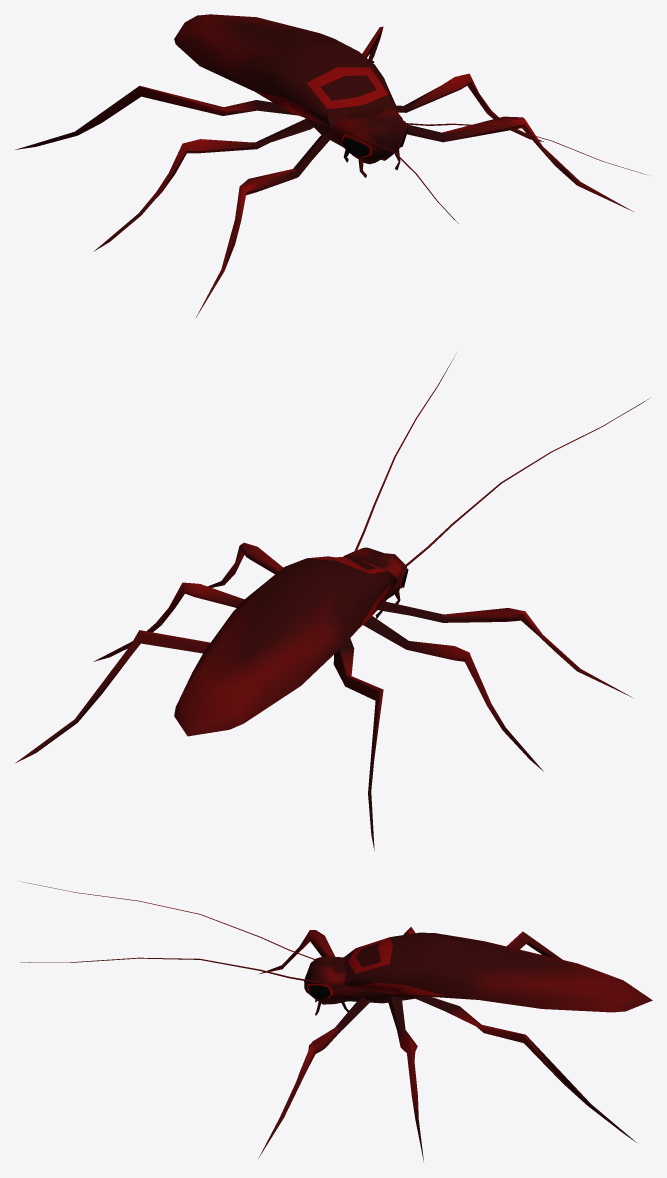
The model's file is Insects_Roach.fbx.
3 renders of one model, top to bottom at view 1: azimuth 30°, elevation 25°; view 2: azimuth 150°, elevation 25°; view 3: azimuth 270°, elevation 25°, orthographic. The views are drawn at different scales.
Parts seen in each view (by area): view 1: base; view 2: base; view 3: base.
Part boxes in pixels (box(x1,y1,x2,y2)): base: box(15, 14, 646, 318); base: box(15, 355, 649, 850); base: box(20, 881, 652, 1161).
Size of the model in its own units: 147 by 53.04 by 208.
